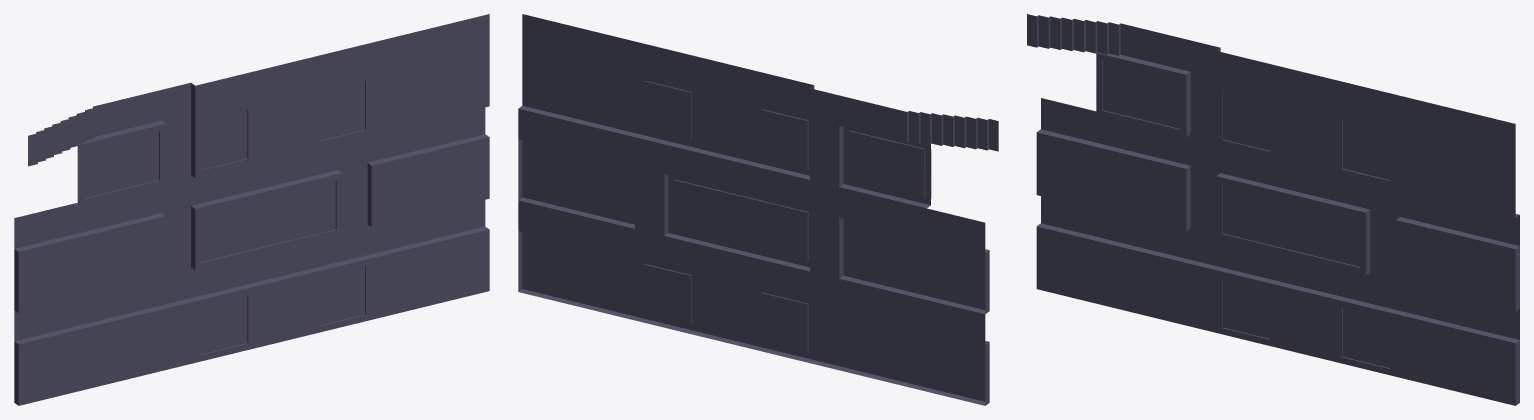
File: ccmap.glb
3 renders of one model, left to right at view 1: azimuth 30°, elevation 25°; view 2: azimuth 150°, elevation 25°; view 3: azimuth 330°, elevation 25°, orthographic. The views are drawn at different scales.
Parts seen in each view (by area): view 1: Map; view 2: Map; view 3: Map.
Boxes of the visible parts, <box> form: Map: <box>14,14,489,405</box>; Map: <box>518,14,998,405</box>; Map: <box>1027,14,1519,405</box>.
Size of the model in its own units: 16 by 9 by 0.8.
Materials: 1 (1 with a texture image).
